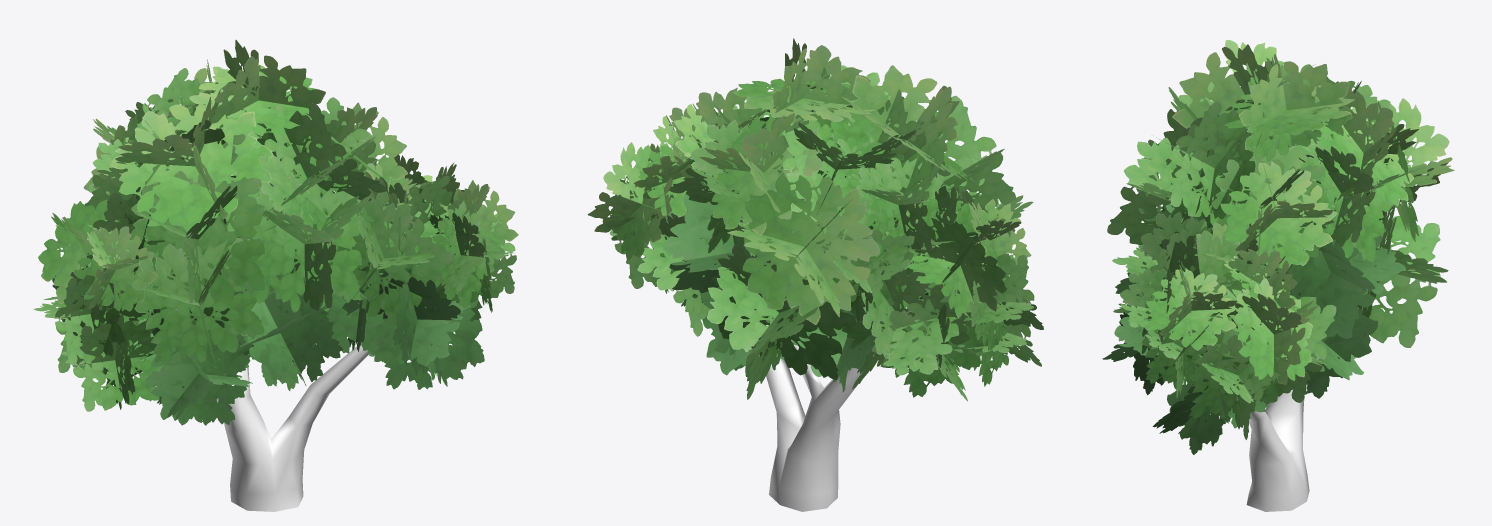
Rendered from P_plant_1313.fbx.
3 renders of one model, left to right at view 1: azimuth 30°, elevation 25°; view 2: azimuth 150°, elevation 25°; view 3: azimuth 270°, elevation 25°, orthographic. The views are drawn at different scales.
Visible parts, largest first — view 1: S_plant_1313_b, S_plant_1313_a; view 2: S_plant_1313_b, S_plant_1313_a; view 3: S_plant_1313_b, S_plant_1313_a.
Boxes of the visible parts, x1=… form: S_plant_1313_b: x1=33, y1=40, x2=518, y2=425; S_plant_1313_a: x1=175, y1=309, x2=369, y2=511; S_plant_1313_b: x1=588, y1=38, x2=1043, y2=401; S_plant_1313_a: x1=766, y1=260, x2=913, y2=511; S_plant_1313_b: x1=1102, y1=39, x2=1454, y2=454; S_plant_1313_a: x1=1246, y1=389, x2=1309, y2=511.
Bounding box in the file's own units: 1.11 × 1.06 × 0.8416.
Materials: 2 (1 with a texture image).
